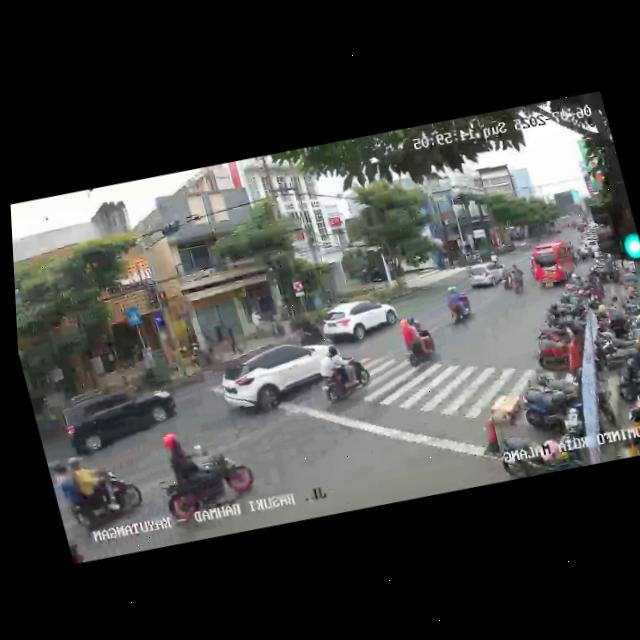car: (210, 330, 344, 426), (52, 377, 180, 463), (314, 291, 403, 351), (527, 237, 583, 292), (464, 257, 511, 295)
motorcycle: (146, 416, 259, 532), (53, 447, 149, 541), (308, 337, 377, 409), (395, 312, 440, 371), (438, 282, 476, 330), (288, 315, 325, 349), (508, 262, 528, 295), (496, 261, 514, 291)
